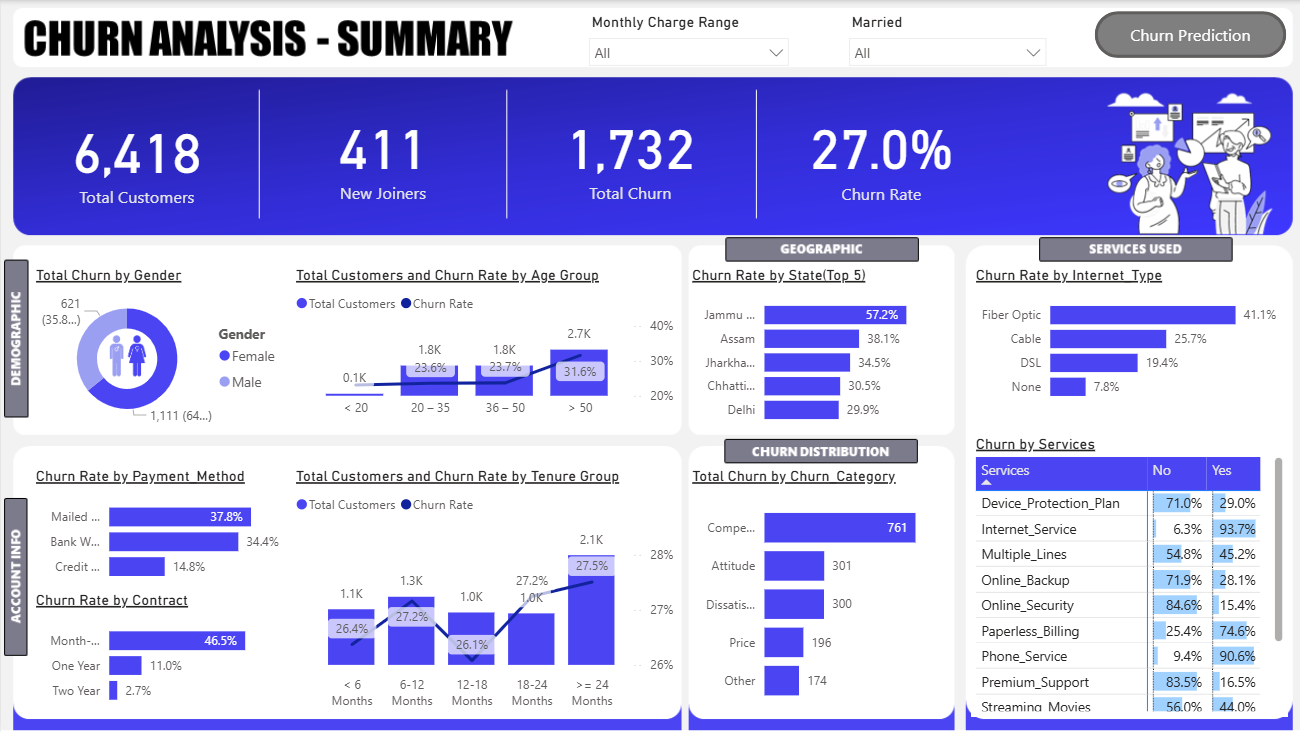

What the dashboard file says about the page in this screenshot:
{"tool":"powerbi","page":{"name":"Summary","canvas":[1280,720],"ordinal":0},"visuals":[{"type":"image","box":[85.4,318,77.5,61.8],"z":0},{"type":"card","fields":{"Values":["All_Measures.Total Customers"]},"box":[19.1,88.8,228.1,132.6],"z":1000},{"type":"card","fields":{"Values":["All_Measures.New Joiners"]},"box":[257.3,88.8,234.8,124.7],"z":2000},{"type":"card","fields":{"Values":["All_Measures.Total Churn"]},"box":[500,88.8,237.1,124.7],"z":3000},{"type":"card","fields":{"Values":["All_Measures.Churn Rate"]},"box":[746.1,89.9,237,123.6],"z":4000},{"type":"donutChart","fields":{"Category":["prod_Churn.Gender"],"Y":["All_Measures.Total Churn"]},"box":[29.2,261.8,255.1,165.2],"z":5000},{"type":"lineStackedColumnComboChart","fields":{"Category":["mapping_AgeGrp.Age Group"],"Y":["All_Measures.Total Customers"],"Y2":["All_Measures.Churn Rate"]},"box":[284.3,261.8,380.9,157.3],"z":6000},{"type":"clusteredBarChart","fields":{"Category":["prod_Churn.Payment_Method"],"Y":["All_Measures.Churn Rate"]},"box":[29.2,458.4,255.1,122.5],"z":7000},{"type":"clusteredBarChart","fields":{"Category":["prod_Churn.Contract"],"Y":["All_Measures.Churn Rate"]},"box":[29.2,580.9,255.1,122.5],"z":8000},{"type":"lineStackedColumnComboChart","fields":{"Category":["mapping_TenureGrp.Tenure Group"],"Y":["All_Measures.Total Customers"],"Y2":["All_Measures.Churn Rate"]},"box":[284.3,458.4,380.9,244.9],"z":9000},{"type":"clusteredBarChart","title":"Churn Rate by State(Top 5)","fields":{"Category":["prod_Churn.State"],"Y":["All_Measures.Churn Rate"]},"box":[674.2,261.8,253.9,165.2],"z":10000},{"type":"clusteredBarChart","fields":{"Category":["prod_Churn.Churn_Category"],"Y":["All_Measures.Total Churn"]},"box":[674.2,458.4,253.9,244.9],"z":11000},{"type":"clusteredBarChart","fields":{"Category":["prod_Churn.Internet_Type"],"Y":["All_Measures.Churn Rate"]},"box":[951.7,261.8,311.2,142.7],"z":12000},{"type":"pivotTable","title":"Churn by Services","fields":{"Rows":["prod_Service.Services"],"Columns":["prod_Service.Status"],"Values":["Sum(prod_Service.Churn Status)"]},"box":[951.7,427,311.2,276.4],"z":13000},{"type":"slicer","fields":{"Values":["prod_Service.Monthly Charge Range"]},"box":[566.3,8.9,216.3,61.1],"z":14000},{"type":"slicer","fields":{"Values":["prod_Service.Married"]},"box":[821.5,8.9,213.8,61.1],"z":15000},{"type":"actionButton","box":[1074.1,11.5,188,45.8],"z":16000}]}

Visuals, with their boxes in screenshot pixels (x1, y1, x2, y2), scaled from the page's 1280x720 canvas onto the 1300x732 screenshot:
image: <bbox>87, 323, 165, 386</bbox>
card - All_Measures.Total Customers: <bbox>19, 90, 251, 225</bbox>
card - All_Measures.New Joiners: <bbox>261, 90, 500, 217</bbox>
card - All_Measures.Total Churn: <bbox>508, 90, 749, 217</bbox>
card - All_Measures.Churn Rate: <bbox>758, 91, 998, 217</bbox>
donutChart - prod_Churn.Gender x All_Measures.Total Churn: <bbox>30, 266, 289, 434</bbox>
lineStackedColumnComboChart - mapping_AgeGrp.Age Group x All_Measures.Total Customers: <bbox>289, 266, 676, 426</bbox>
clusteredBarChart - prod_Churn.Payment_Method x All_Measures.Churn Rate: <bbox>30, 466, 289, 591</bbox>
clusteredBarChart - prod_Churn.Contract x All_Measures.Churn Rate: <bbox>30, 591, 289, 715</bbox>
lineStackedColumnComboChart - mapping_TenureGrp.Tenure Group x All_Measures.Total Customers: <bbox>289, 466, 676, 715</bbox>
"Churn Rate by State(Top 5)" clusteredBarChart: <bbox>685, 266, 943, 434</bbox>
clusteredBarChart - prod_Churn.Churn_Category x All_Measures.Total Churn: <bbox>685, 466, 943, 715</bbox>
clusteredBarChart - prod_Churn.Internet_Type x All_Measures.Churn Rate: <bbox>967, 266, 1283, 411</bbox>
"Churn by Services" pivotTable: <bbox>967, 434, 1283, 715</bbox>
slicer - prod_Service.Monthly Charge Range: <bbox>575, 9, 795, 71</bbox>
slicer - prod_Service.Married: <bbox>834, 9, 1051, 71</bbox>
actionButton: <bbox>1091, 12, 1282, 58</bbox>
